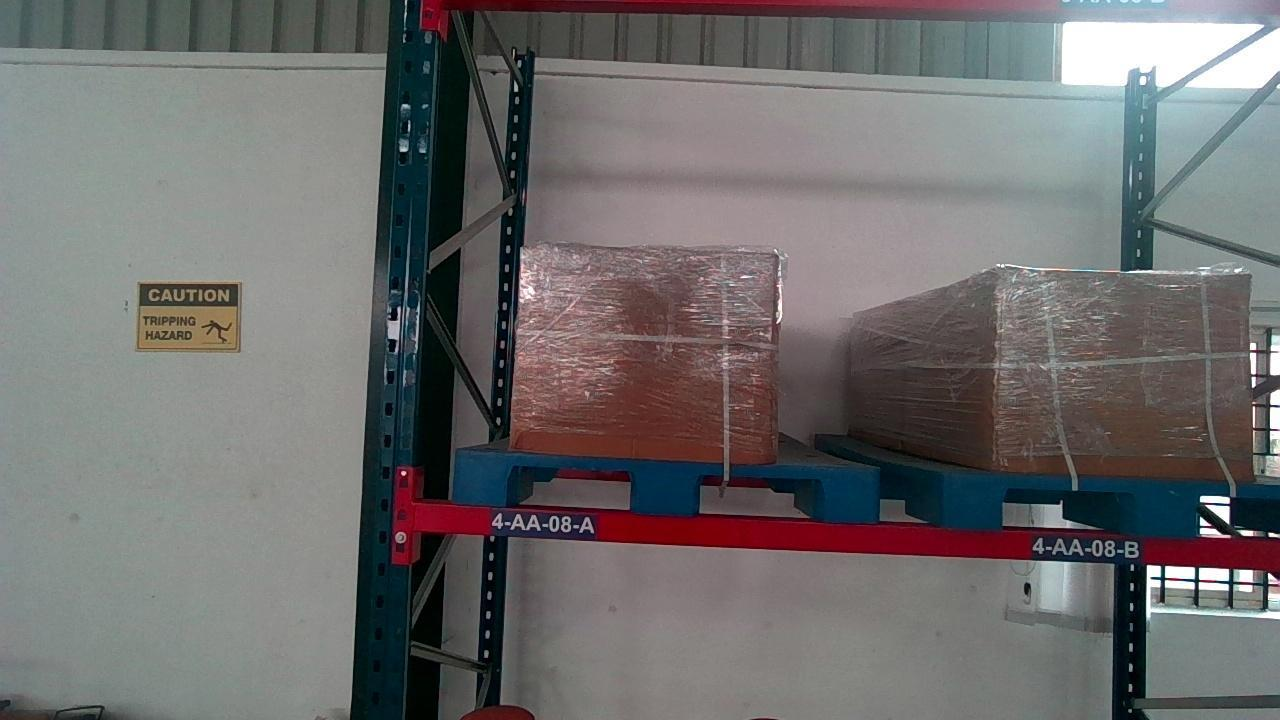h_rack: (422, 511, 1280, 561)
small_pallet: (451, 456, 875, 514), (949, 476, 1280, 534)
